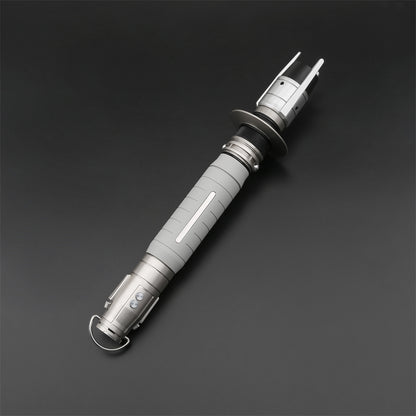lightsaber: (87, 48, 335, 361)
